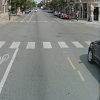crosswalk: (0, 41, 91, 49)
